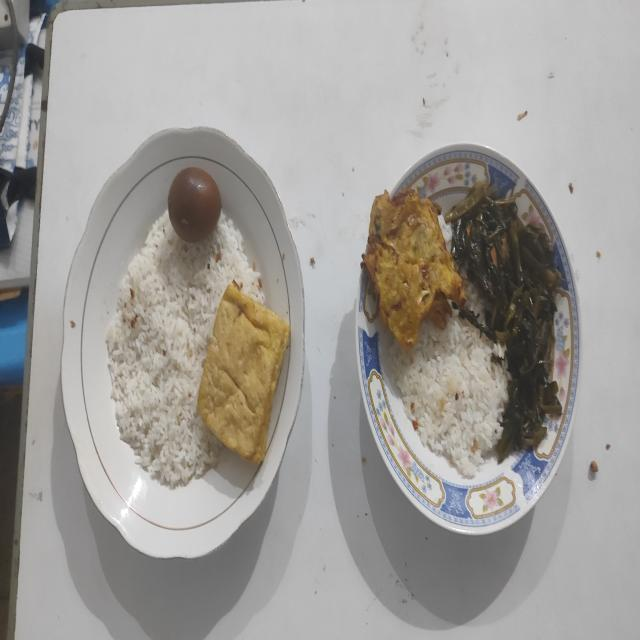nasi_putih: (106, 213, 264, 489), (380, 311, 508, 478)
tahu_goreng: (198, 285, 290, 464)
tumis_kangkung: (445, 181, 562, 461)
